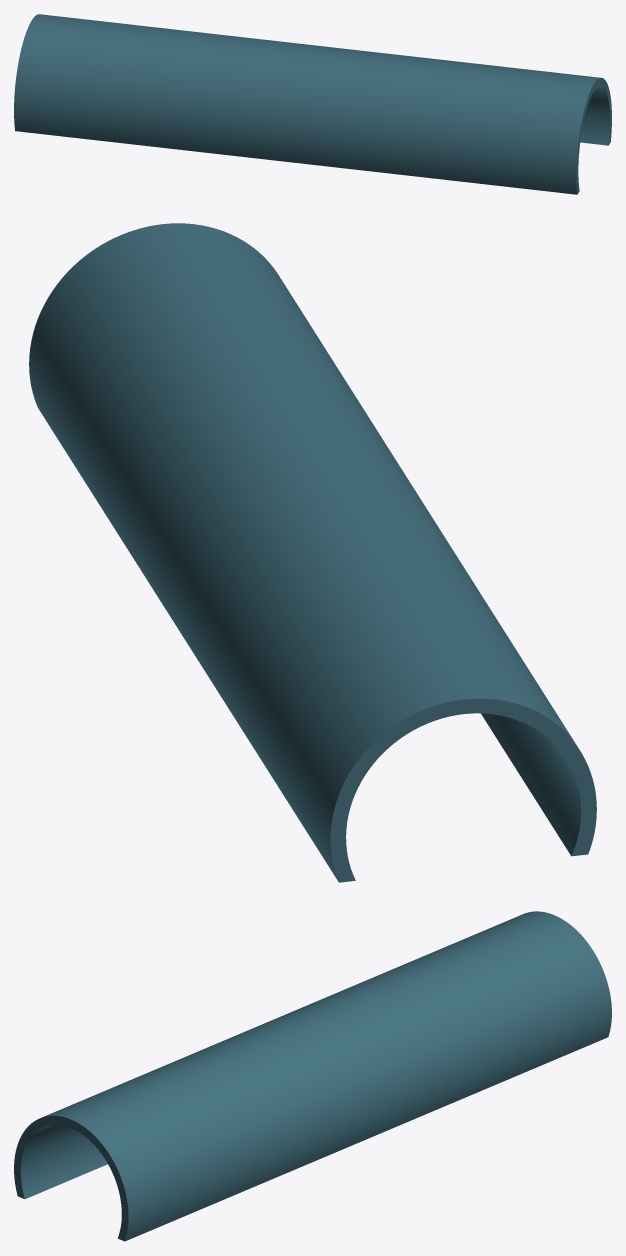
Rendered from Arm_Cover_5.fbx.
3 renders of one model, top to bottom at view 1: azimuth 30°, elevation 25°; view 2: azimuth 150°, elevation 25°; view 3: azimuth 270°, elevation 25°, orthographic. The views are drawn at different scales.
Parts seen in each view (by area): view 1: COVER_12in_RR_Tube_Cut_Below_Arm; view 2: COVER_12in_RR_Tube_Cut_Below_Arm; view 3: COVER_12in_RR_Tube_Cut_Below_Arm.
Part boxes in pixels (x1=…): COVER_12in_RR_Tube_Cut_Below_Arm: x1=14, y1=14, x2=611, y2=194; COVER_12in_RR_Tube_Cut_Below_Arm: x1=29, y1=223, x2=596, y2=882; COVER_12in_RR_Tube_Cut_Below_Arm: x1=14, y1=911, x2=611, y2=1241.
Bounding box in the file's own units: 6.28 × 1.15 × 6.28.
